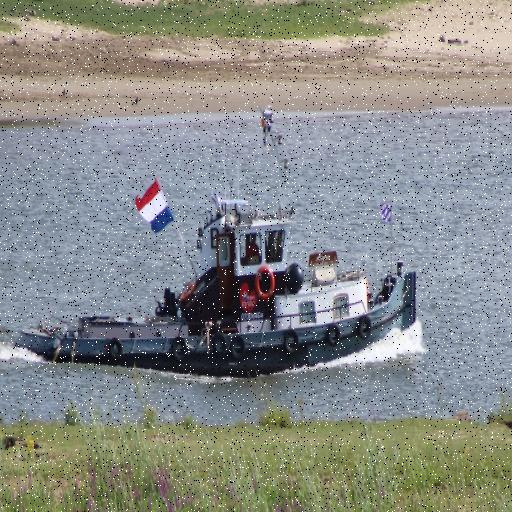tugboat: (12, 102, 423, 395)
